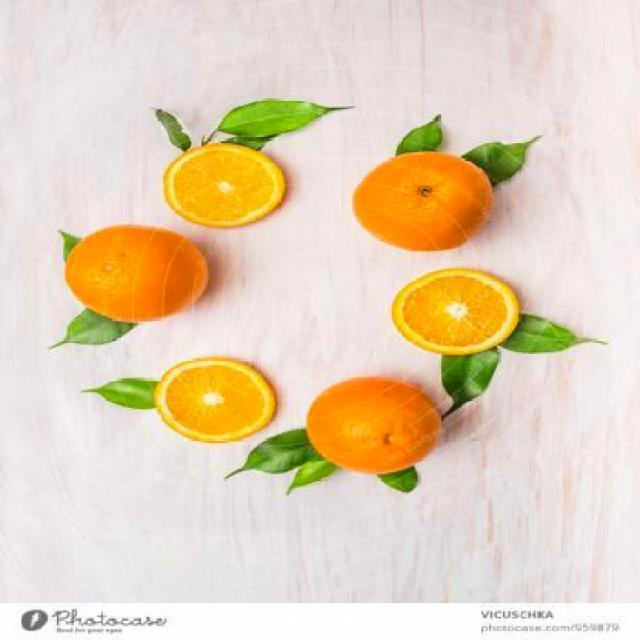Jeruk Sudah Matang: (350, 148, 496, 258), (62, 225, 210, 322), (309, 376, 443, 474)
